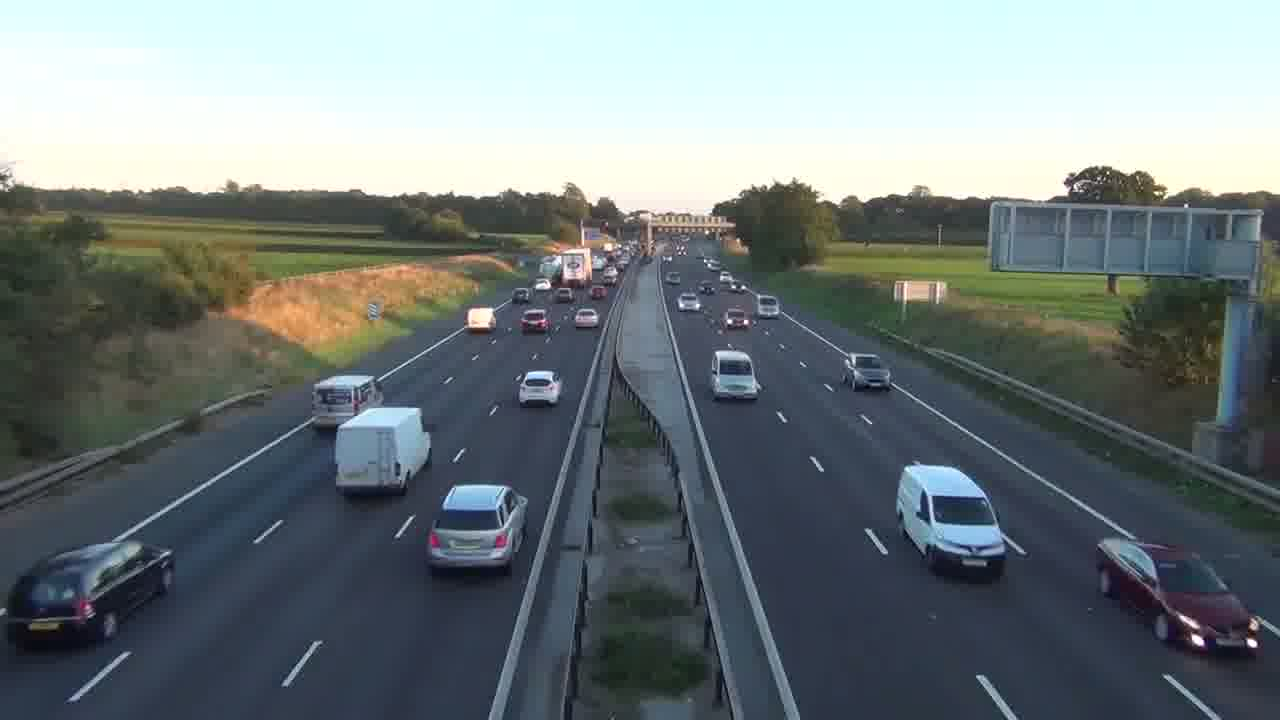car: (2, 538, 177, 652), (895, 462, 1021, 580), (425, 482, 530, 575), (838, 352, 892, 392), (516, 369, 562, 407), (520, 308, 550, 335), (573, 307, 599, 330), (677, 292, 701, 311)
truck: (1094, 535, 1262, 659), (2, 538, 177, 652), (333, 406, 432, 497), (464, 306, 497, 336)
